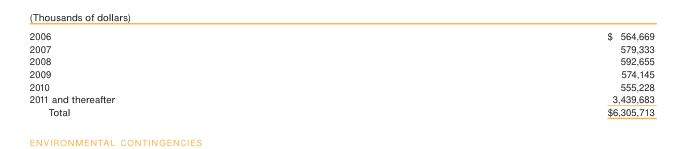table: (28, 29, 653, 117)
table column: (28, 29, 360, 117), (360, 29, 653, 117)
table row: (28, 41, 653, 54), (28, 54, 653, 67), (28, 79, 653, 92), (28, 104, 653, 117), (28, 29, 653, 41), (28, 67, 653, 79), (28, 92, 653, 104)
